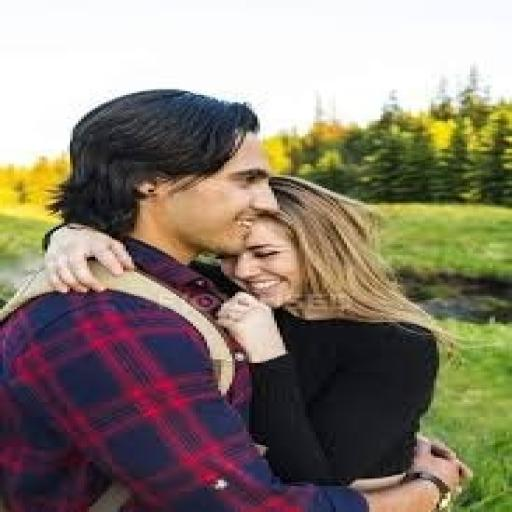hugging: (0, 86, 467, 510)
